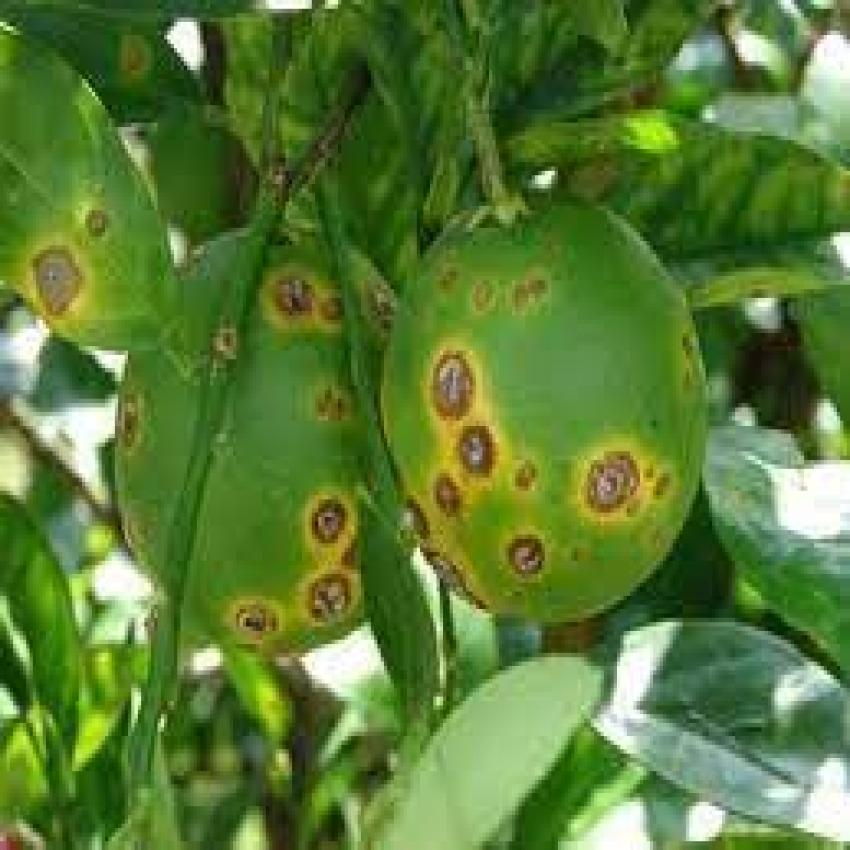Mal estado: (361, 184, 715, 642), (114, 211, 427, 669)
